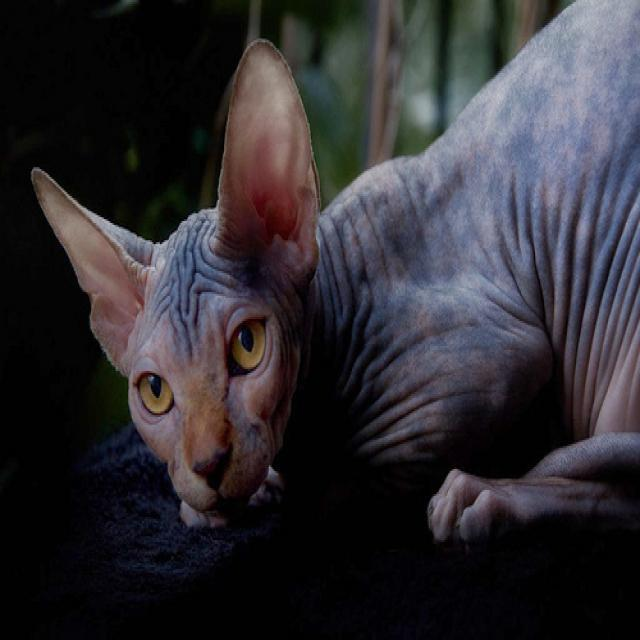Sphynx: (28, 28, 322, 525)
